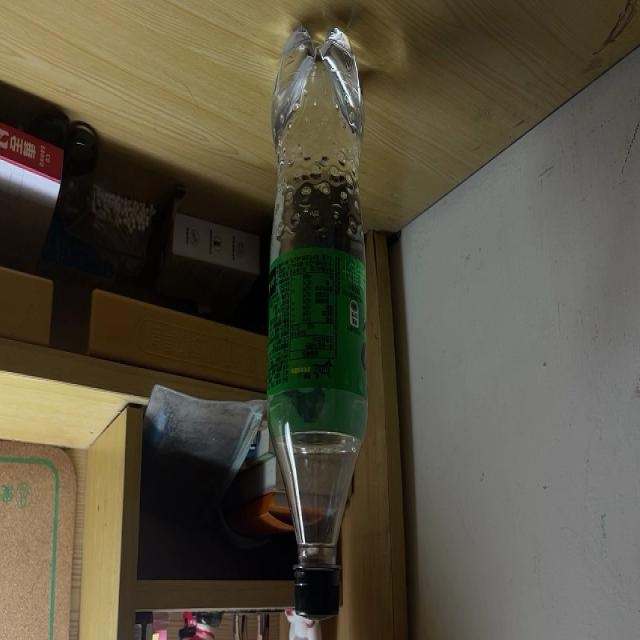Sprite: (264, 19, 370, 624)
